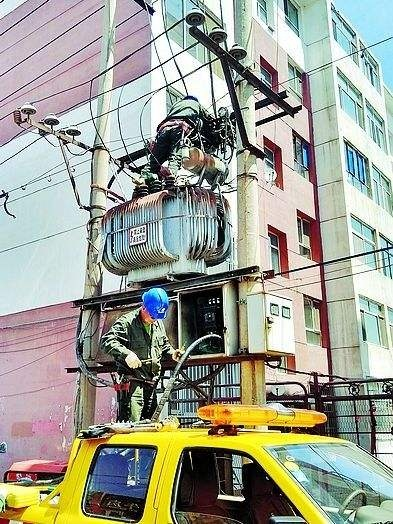blue: (136, 287, 168, 323)
